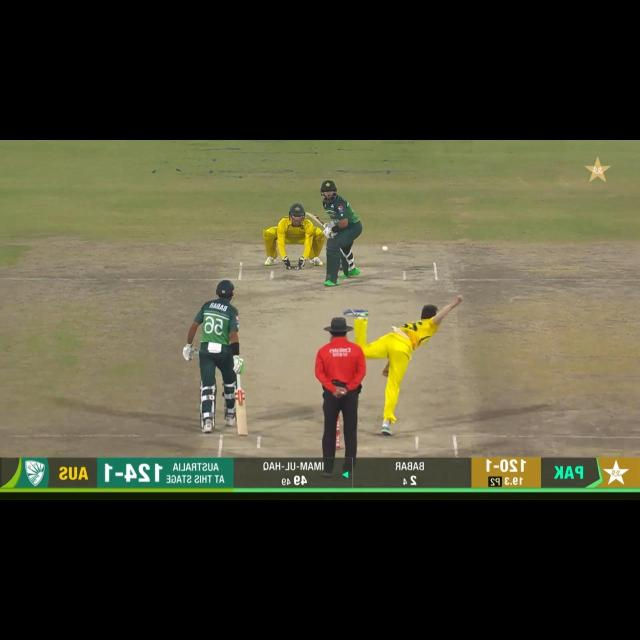bat: (230, 388, 252, 438), (305, 210, 329, 232)
toe: (235, 428, 252, 438), (305, 208, 318, 221)
